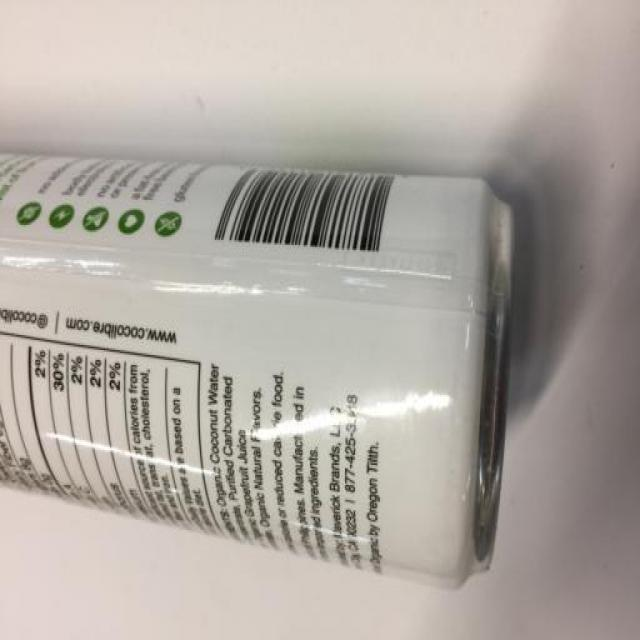metel: (7, 146, 541, 606)
